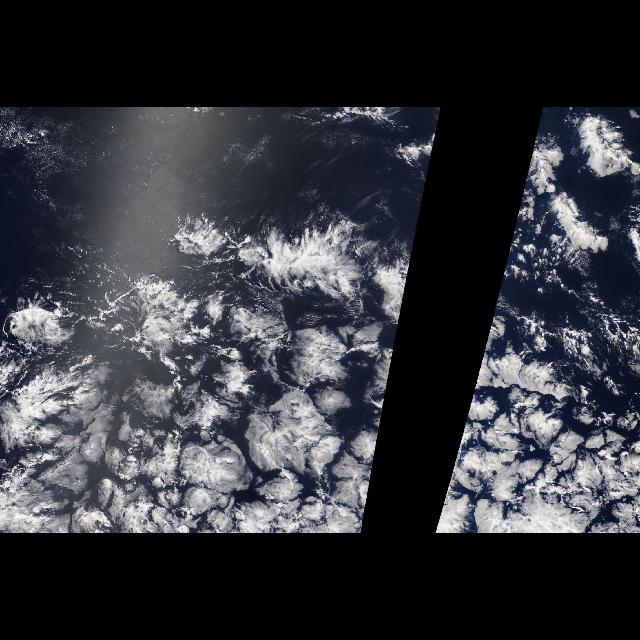Flower: (36, 248, 414, 518), (439, 248, 639, 518)
Sugar: (2, 108, 96, 210)
